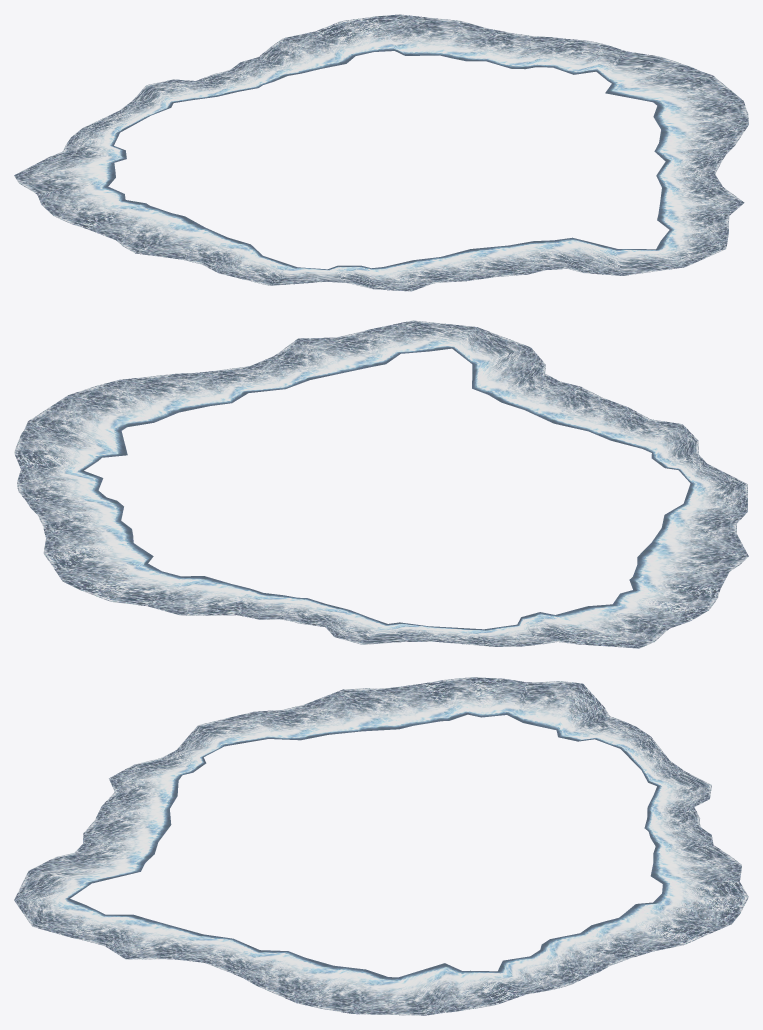
Rendered from island_10_coast.fbx.
3 renders of one model, top to bottom at view 1: azimuth 30°, elevation 25°; view 2: azimuth 150°, elevation 25°; view 3: azimuth 270°, elevation 25°, orthographic. The views are drawn at different scales.
Visible parts, largest first — view 1: island_10_coast1; view 2: island_10_coast1; view 3: island_10_coast1.
Part boxes in pixels (bbox=[...]): island_10_coast1: bbox=[14, 14, 748, 291]; island_10_coast1: bbox=[14, 320, 748, 648]; island_10_coast1: bbox=[14, 677, 748, 1015].
Bounding box in the file's own units: 72.11 × 1.42e-14 × 66.16.
